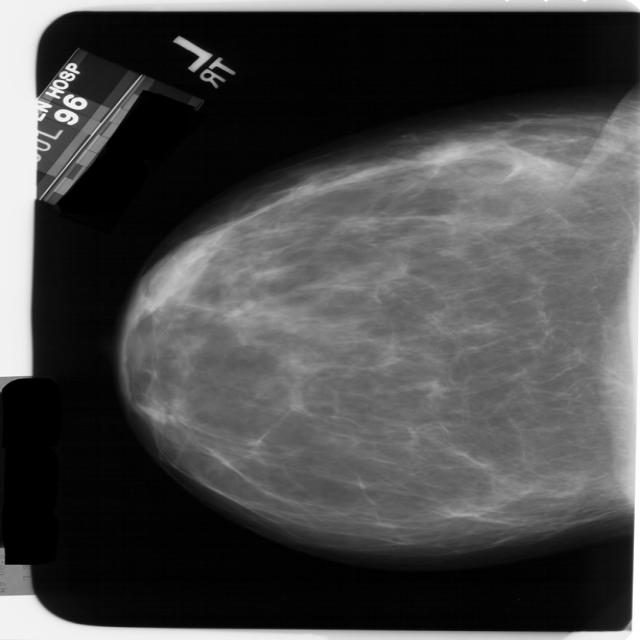tumour: (416, 140, 466, 170)
